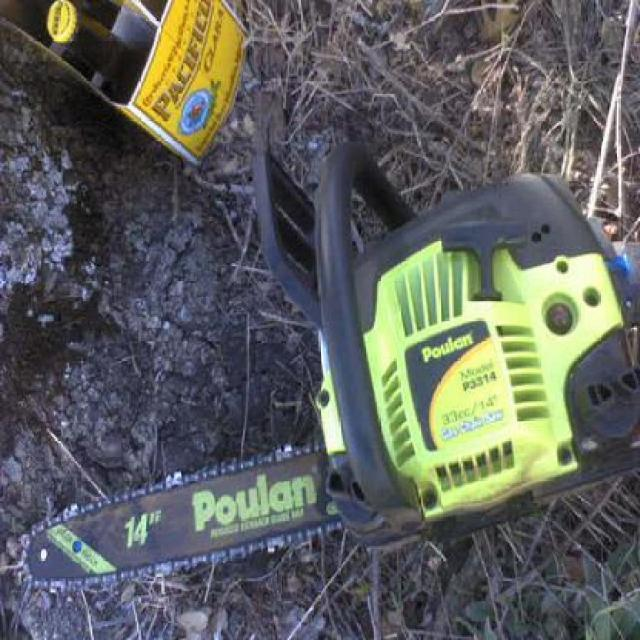Chainsaw: (23, 138, 639, 592)
